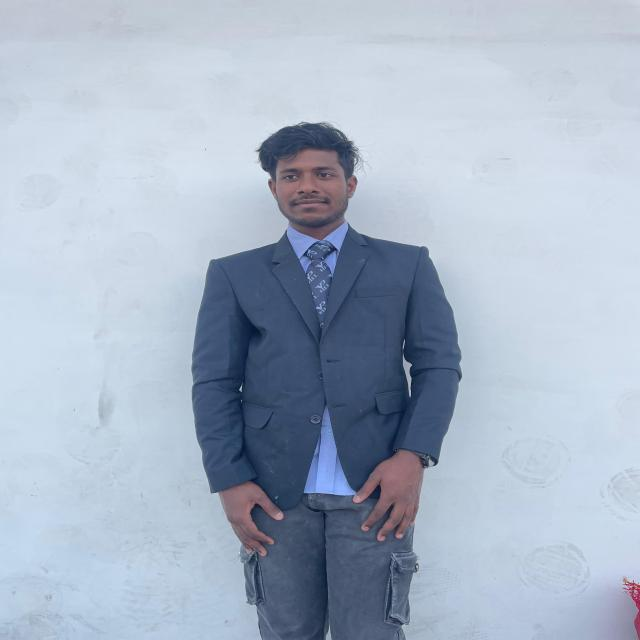Tie: (305, 240, 336, 330)
uniform: (190, 221, 462, 639)
